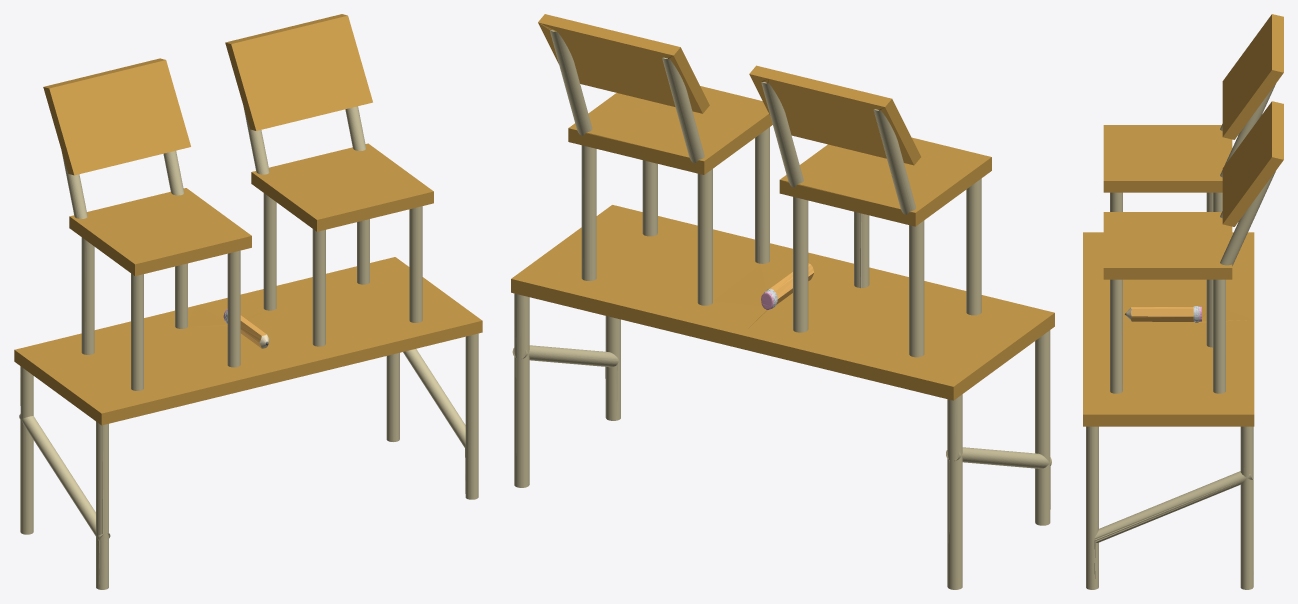
Rendered from Chair.glb.
3 views of the same model, side by side, from view 1: azimuth 30°, elevation 25°; view 2: azimuth 150°, elevation 25°; view 3: azimuth 270°, elevation 25° (orthographic). The views are drawn at different scales.
Visible parts, largest first — view 1: obj_0.001; view 2: obj_0.001; view 3: obj_0.001.
Part boxes in pixels (<box>): obj_0.001: <box>14,14,482,589</box>; obj_0.001: <box>511,14,1054,589</box>; obj_0.001: <box>1083,14,1283,589</box>.
Size of the model in its own units: 67 by 71 by 31.17.
